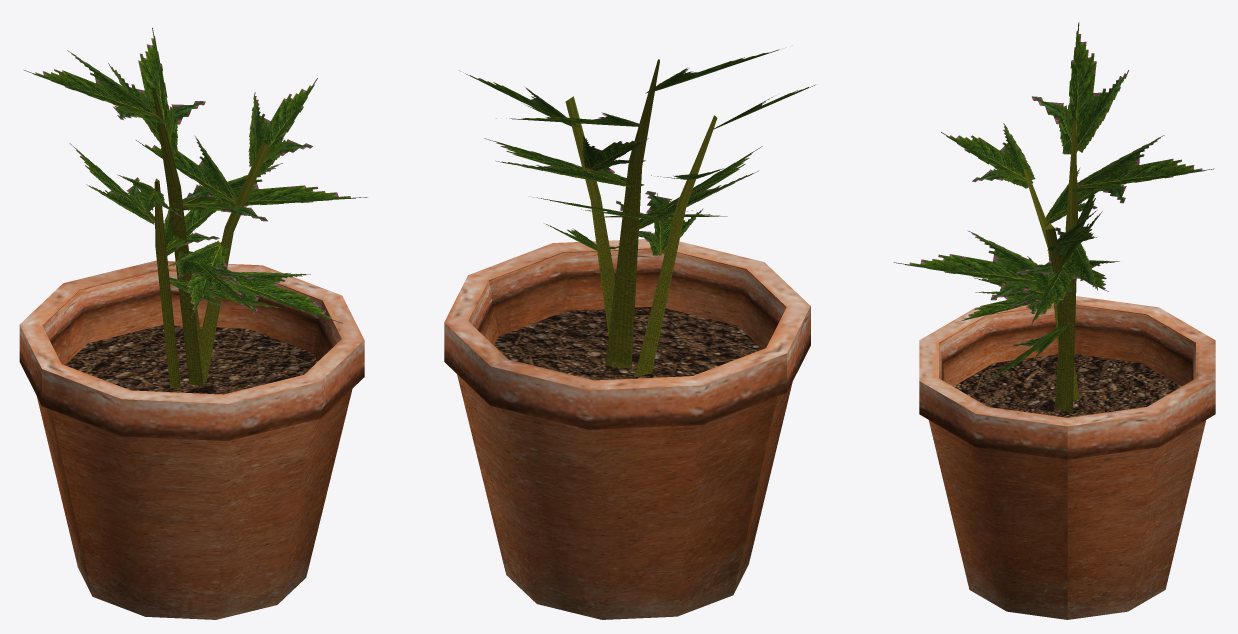
File: mm9_deco_pottedplant3.glb
The picture shows the model from 3 angles, left to right: view 1: azimuth 30°, elevation 25°; view 2: azimuth 150°, elevation 25°; view 3: azimuth 270°, elevation 25°; orthographic projection. The views are drawn at different scales.
Visible parts, largest first — view 1: Pottedplant3; view 2: Pottedplant3; view 3: Pottedplant3.
Part boxes in pixels (x1,y1,x2,y2): Pottedplant3: [19, 27, 367, 619]; Pottedplant3: [444, 49, 815, 619]; Pottedplant3: [893, 22, 1215, 619].
Bounding box in the file's own units: 0.2562 × 0.3858 × 0.2404.
Materials: 1 (1 with a texture image).
